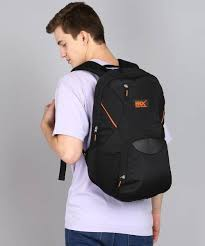backpack: (69, 58, 172, 202)
